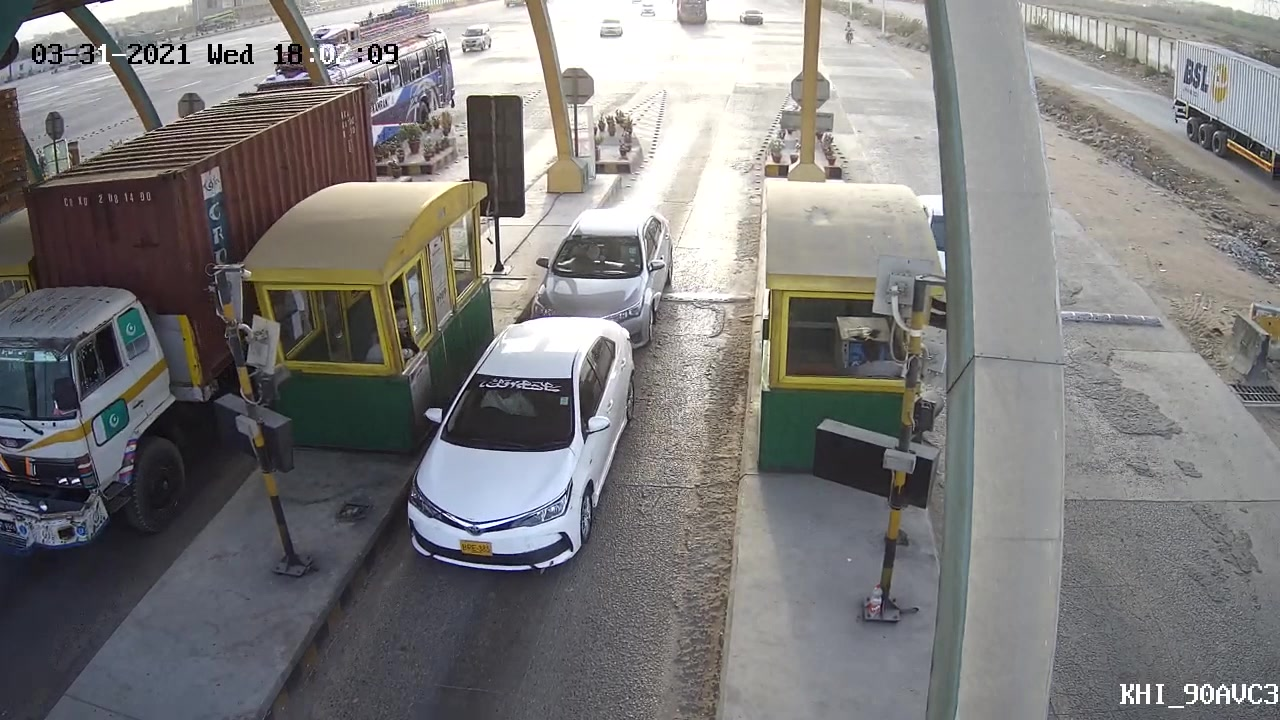F1: (394, 312, 660, 580)
